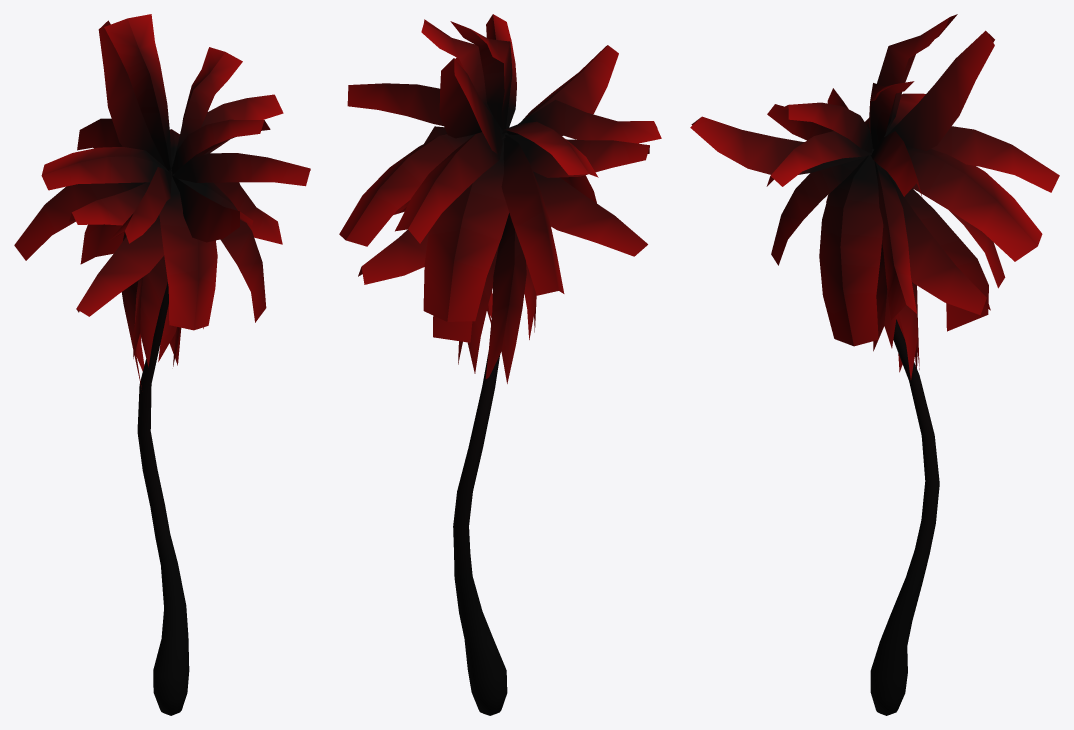
The model's file is TAI_Palm_Tree_03B.fbx.
3 renders of one model, left to right at view 1: azimuth 30°, elevation 25°; view 2: azimuth 150°, elevation 25°; view 3: azimuth 270°, elevation 25°, orthographic. The views are drawn at different scales.
Visible parts, largest first — view 1: TAI_Palm_Tree_03B_LOD0; view 2: TAI_Palm_Tree_03B_LOD0; view 3: TAI_Palm_Tree_03B_LOD0.
Part boxes in pixels (bbox=[...]): TAI_Palm_Tree_03B_LOD0: bbox=[14, 14, 310, 715]; TAI_Palm_Tree_03B_LOD0: bbox=[339, 14, 661, 715]; TAI_Palm_Tree_03B_LOD0: bbox=[690, 14, 1059, 715].
Size of what is drawn, in the model's own units: 704 by 1850 by 894.
